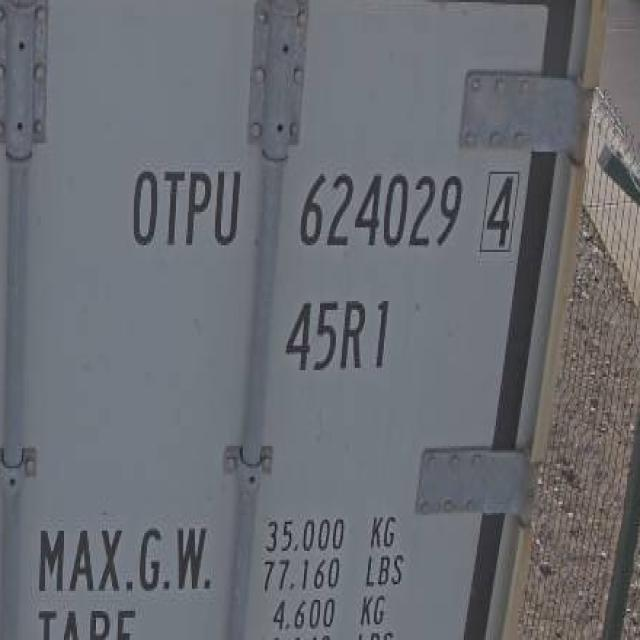dv: (473, 163, 522, 257)
owner: (128, 155, 249, 258)
serial: (295, 158, 465, 264)
size: (277, 291, 398, 382)
